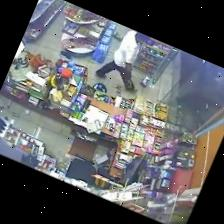person: (96, 30, 149, 90)
